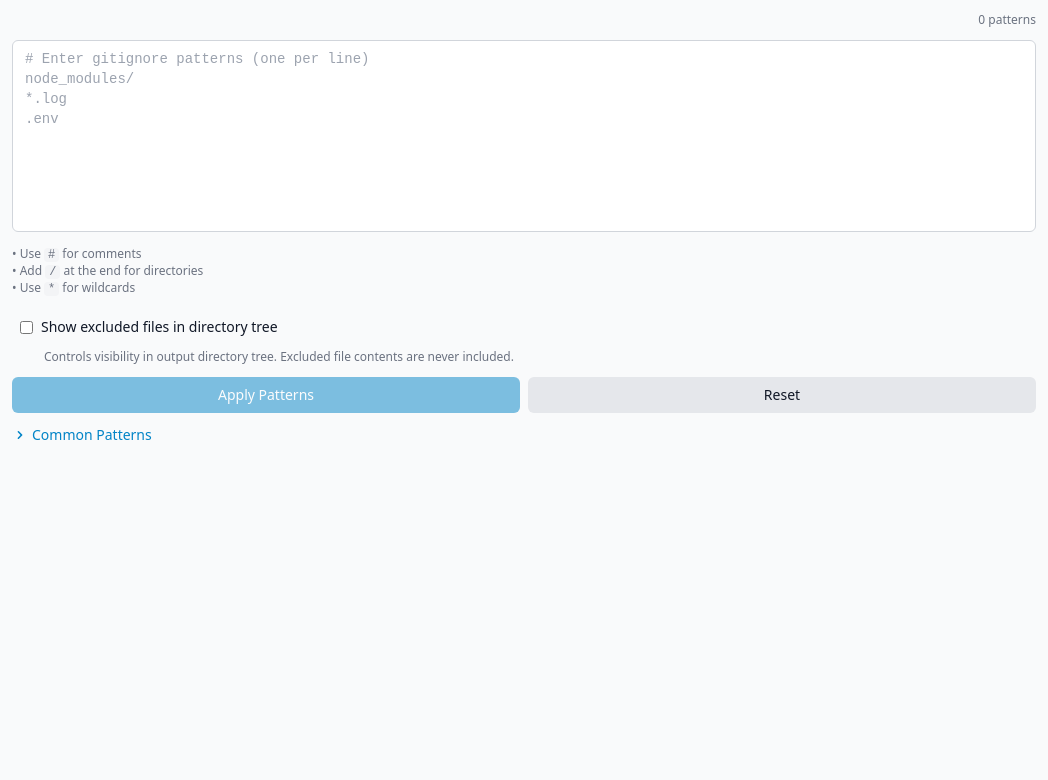
Test: GitIgnoreEditor › should show common patterns when expanded
Click the button "Common Patterns": {"x": 82, "y": 435} [12,425,152,445]
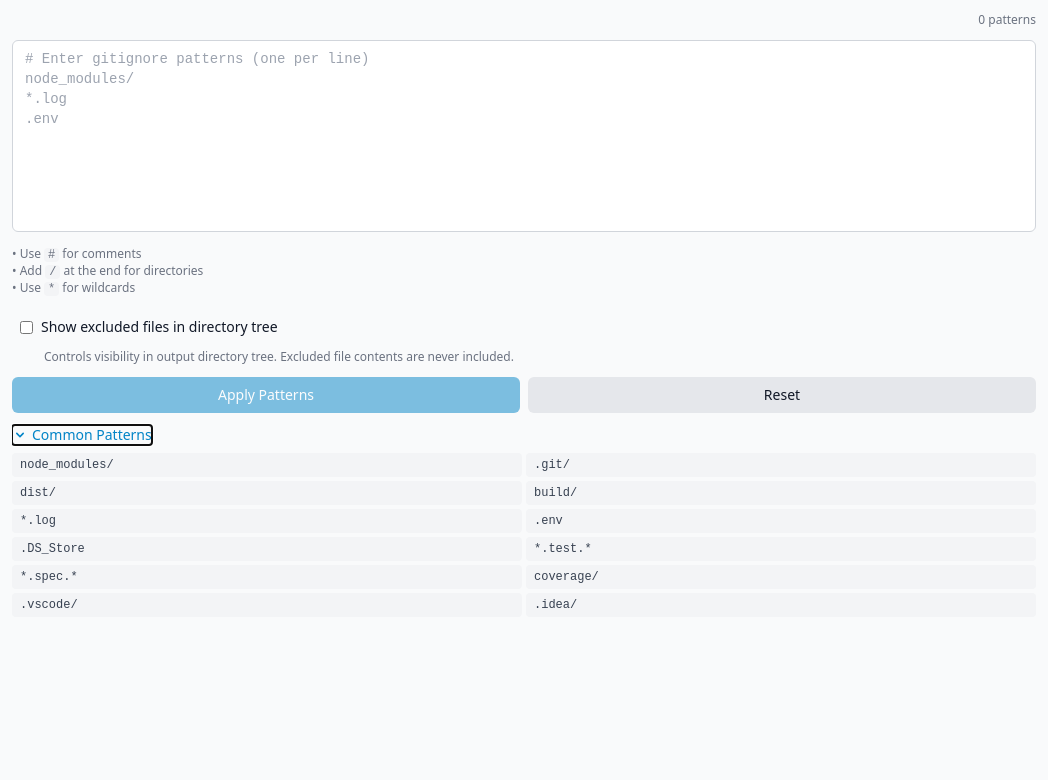
Expected: the button "node_modules/" is shown, [12,453,522,477]
Expected: the button ".git/" is shown, [526,453,1036,477]
